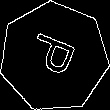P_E: (24, 30, 84, 84)
